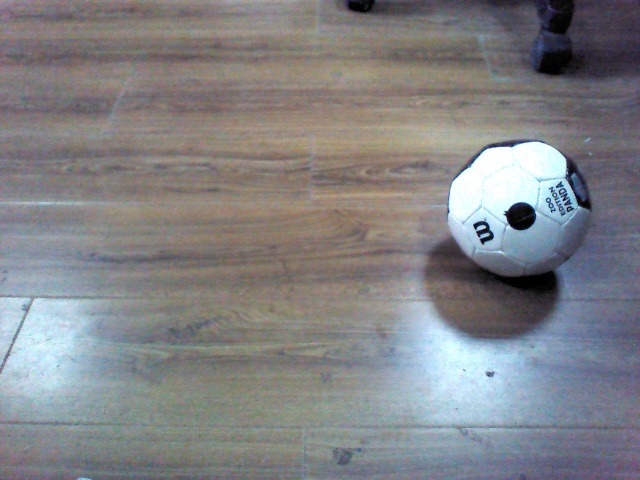ball: (203, 275, 349, 425)
